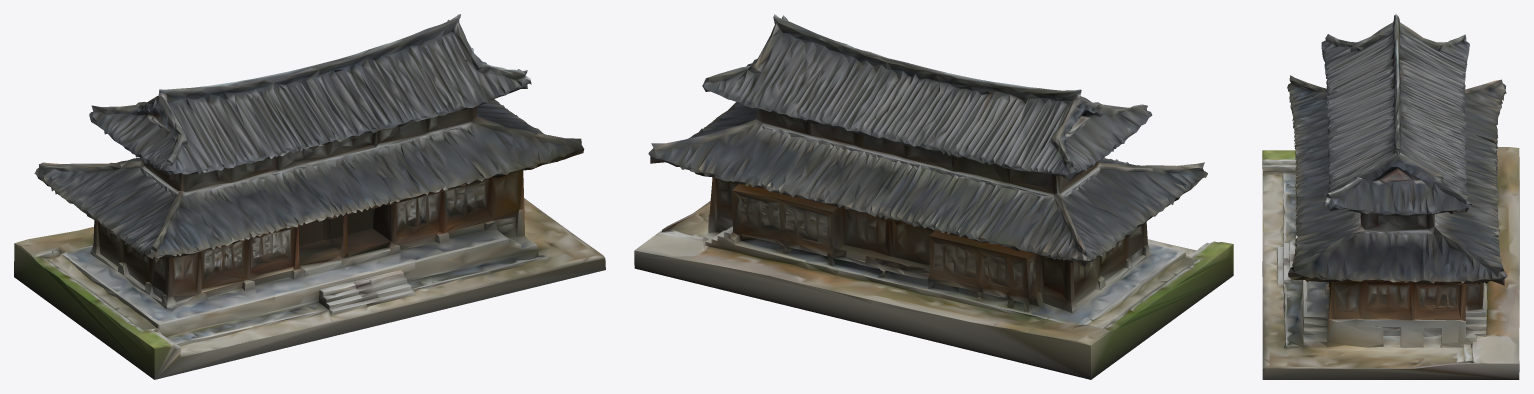
The model's file is seogeodang.glb.
3 views of the same model, side by side, from view 1: azimuth 30°, elevation 25°; view 2: azimuth 150°, elevation 25°; view 3: azimuth 270°, elevation 25° (orthographic). The views are drawn at different scales.
Bounding box in the file's own units: 25.67 × 11.93 × 13.85.
